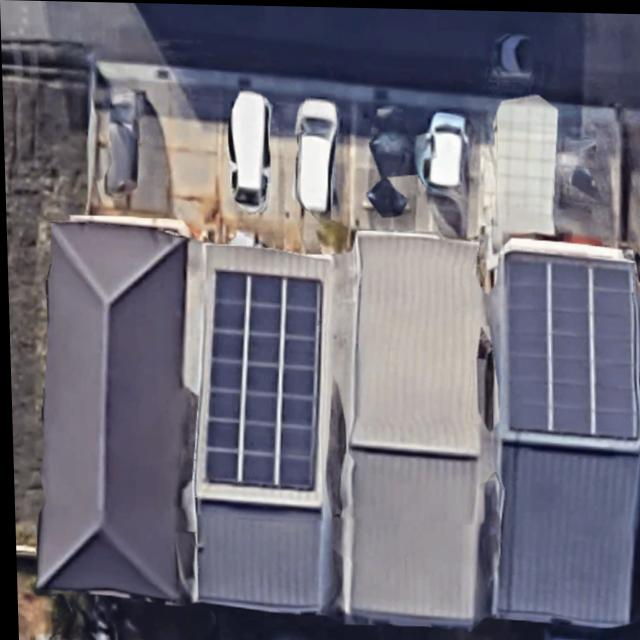Batiment: (35, 225, 194, 600), (339, 232, 489, 623), (491, 251, 640, 623), (193, 246, 337, 610)
